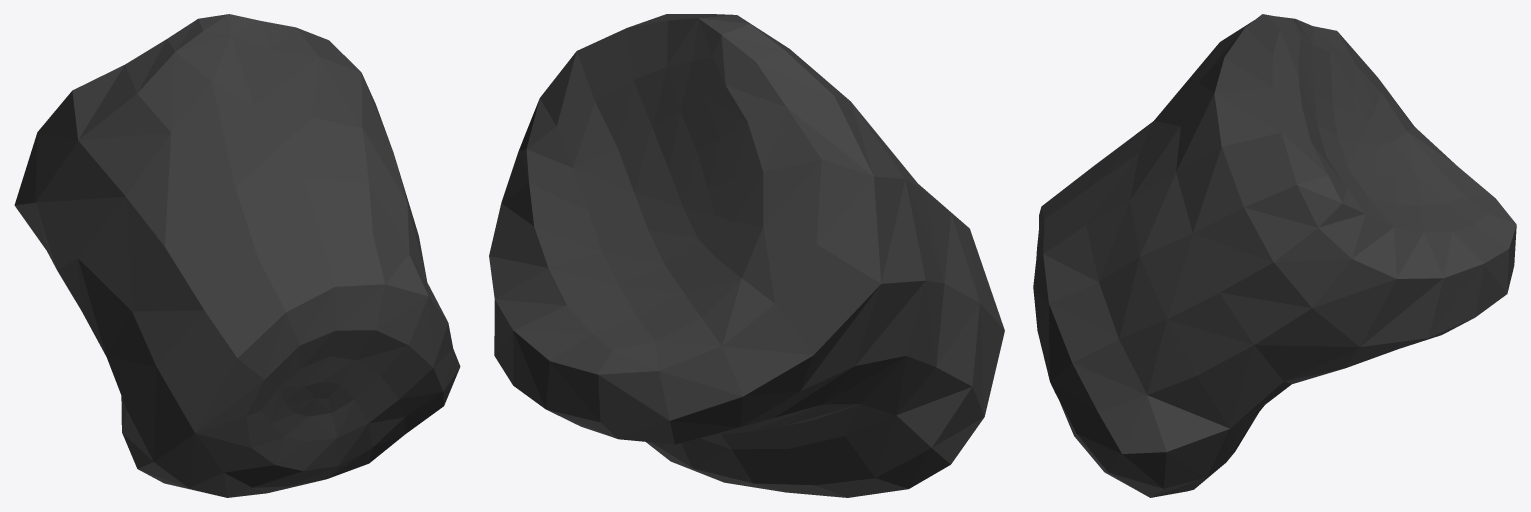
3 views of the same model, side by side, from view 1: azimuth 30°, elevation 25°; view 2: azimuth 150°, elevation 25°; view 3: azimuth 270°, elevation 25° (orthographic). The views are drawn at different scales.
Parts seen in each view (by area): view 1: FL_P2_L; view 2: FL_P2_L; view 3: FL_P2_L.
Boxes of the visible parts, bbox=[...] form: FL_P2_L: bbox=[14, 14, 460, 497]; FL_P2_L: bbox=[489, 14, 1004, 497]; FL_P2_L: bbox=[1033, 14, 1516, 497].
Size of the model in its own units: 0.0727 by 0.0893 by 0.0887.
1 material, 1 textured.
